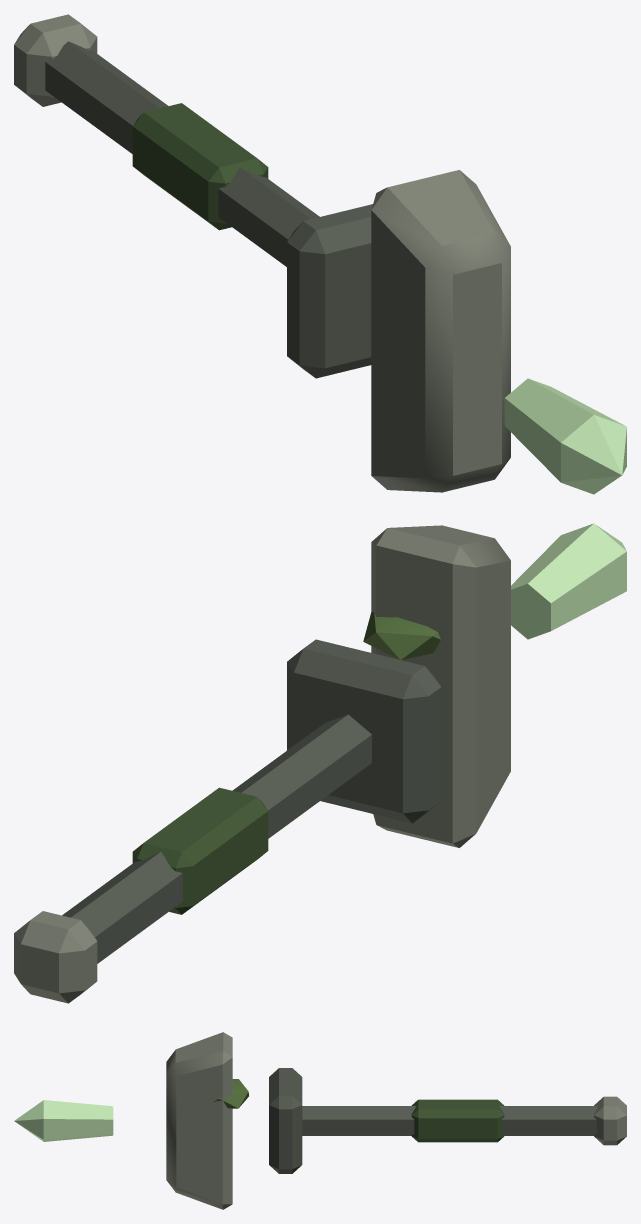
The model's file is sentinela_weapon.fbx.
The picture shows the model from 3 angles, top to bottom: view 1: azimuth 30°, elevation 25°; view 2: azimuth 150°, elevation 25°; view 3: azimuth 270°, elevation 25°; orthographic projection. The views are drawn at different scales.
Visible parts, largest first — view 1: sentinela_weapon; view 2: sentinela_weapon; view 3: sentinela_weapon.
Part boxes in pixels (x1,y1,x2,y2): sentinela_weapon: (14,14,626,494); sentinela_weapon: (14,523,626,1003); sentinela_weapon: (14,1032,626,1209).
Bounding box in the file's own units: 0.26 × 0.5305 × 1.85.
